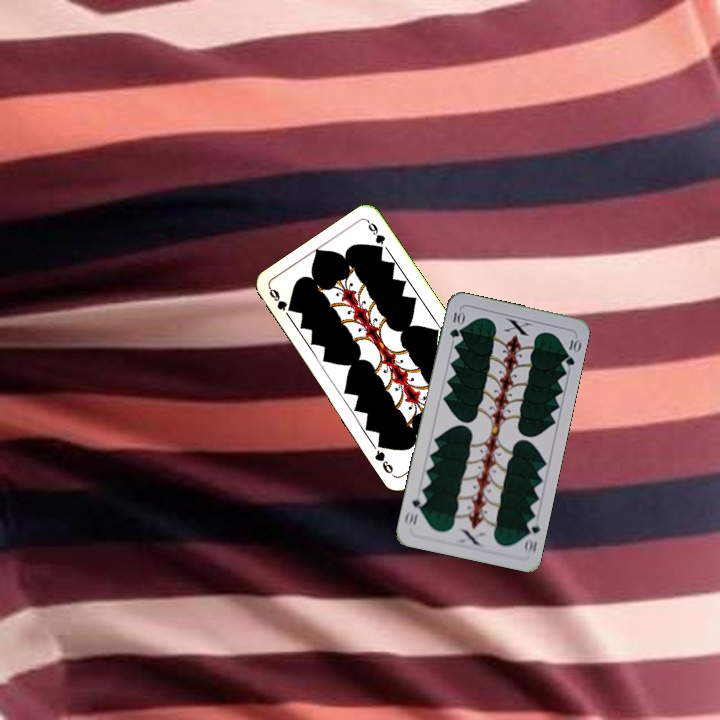G10: (520, 515, 542, 556), (446, 308, 466, 340)
G9: (265, 284, 295, 314)
